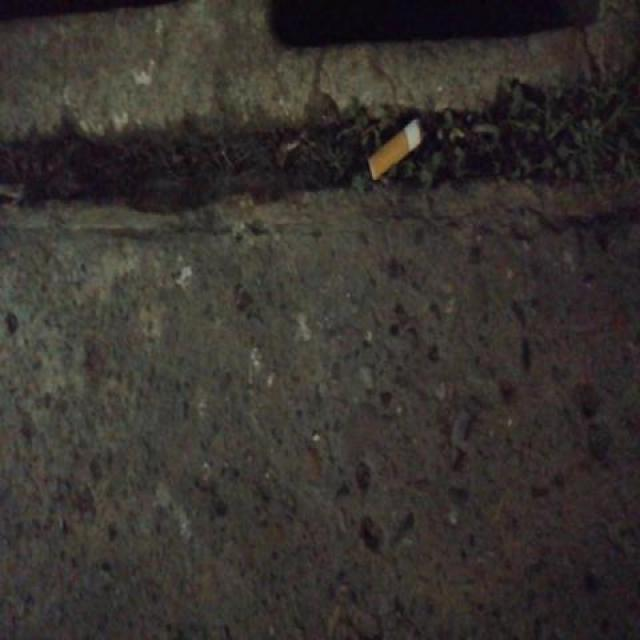non-organic waste: (363, 115, 425, 190)
